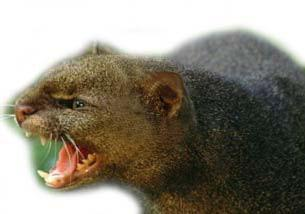Jaguarundi: (8, 33, 283, 209)
